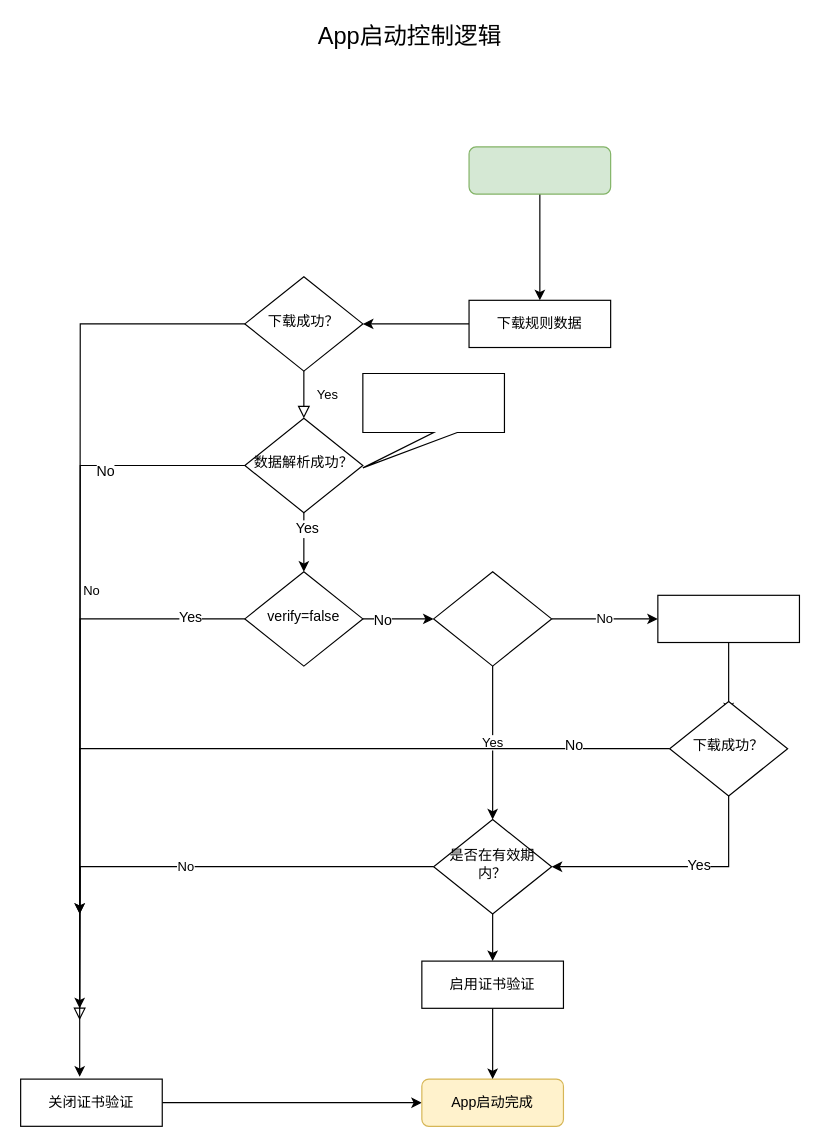
The diagram is 820 pixels wide and 1147 high, and some of its shapes have lost their labels. Each missing label, with the centre of its shape:
"App启动" goes at [539,170].
"下载证书文件" goes at [728,618].
"数据解密&json格式验证&必要字段验证" goes at [433,420].
"证书文件MD5值是否一致" goes at [492,618].
